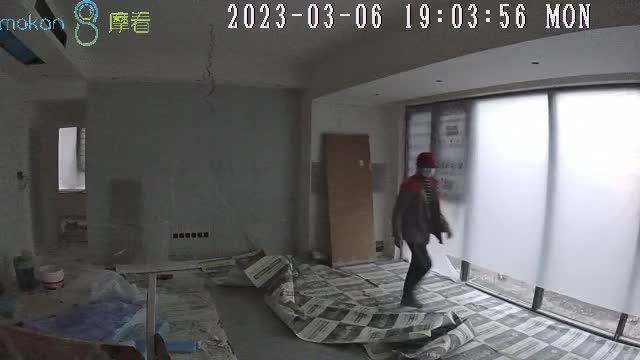people: (391, 153, 451, 307)
window: (402, 87, 640, 345)
